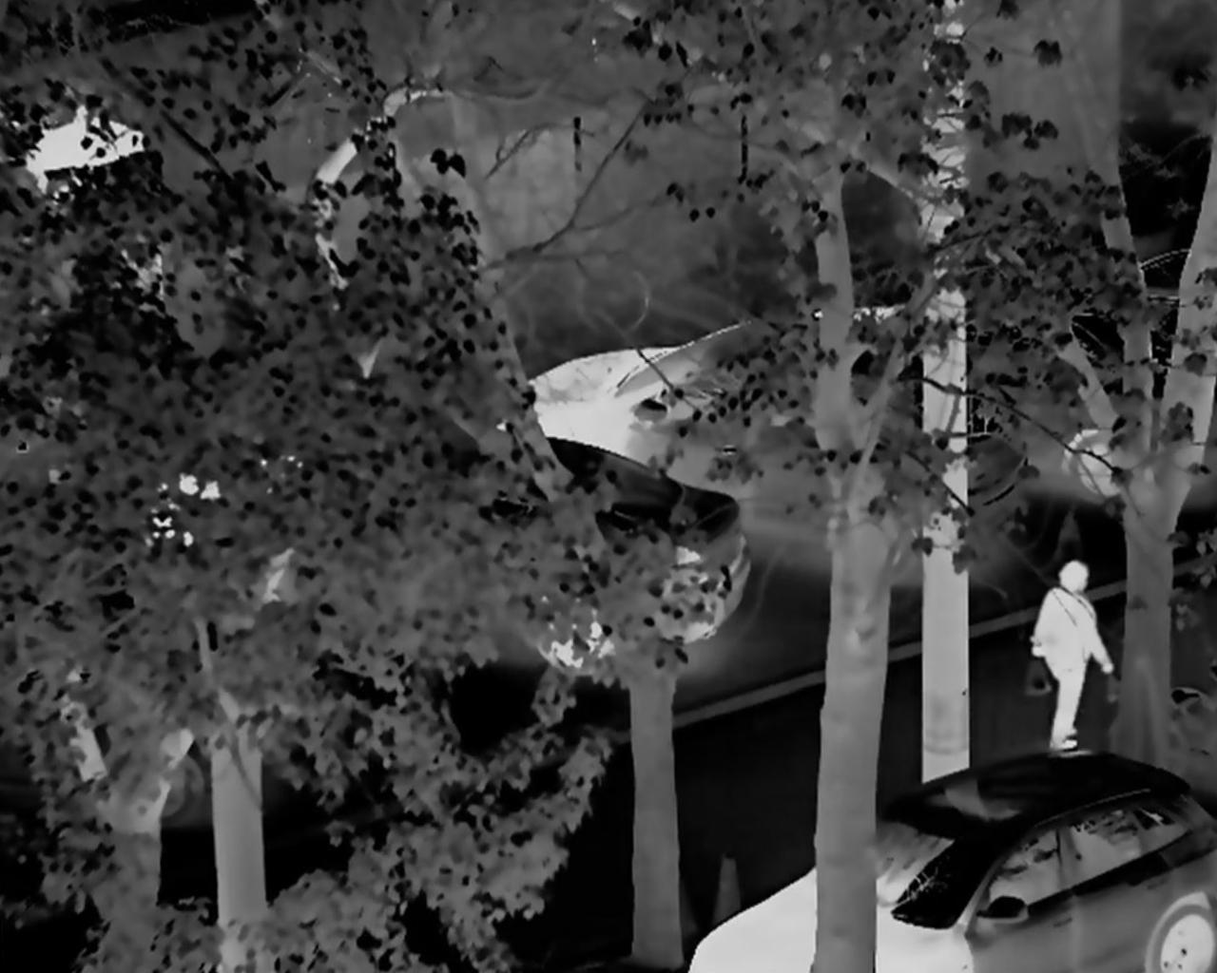person: (1024, 558, 1121, 758)
